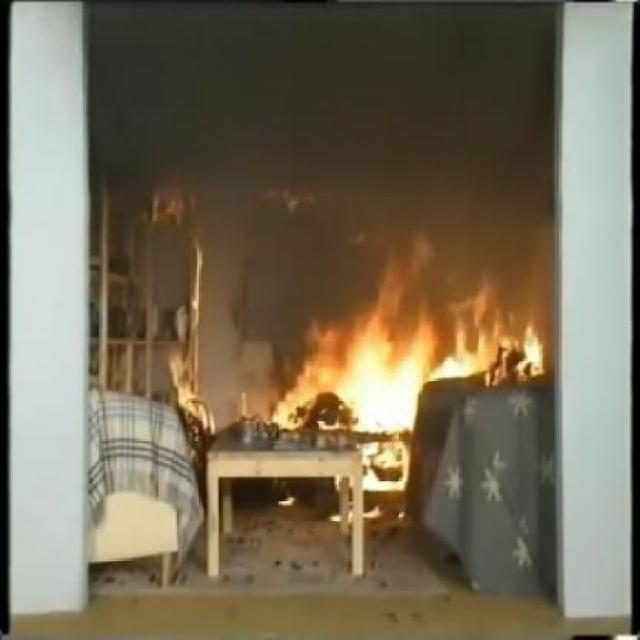fire: (284, 300, 542, 440)
